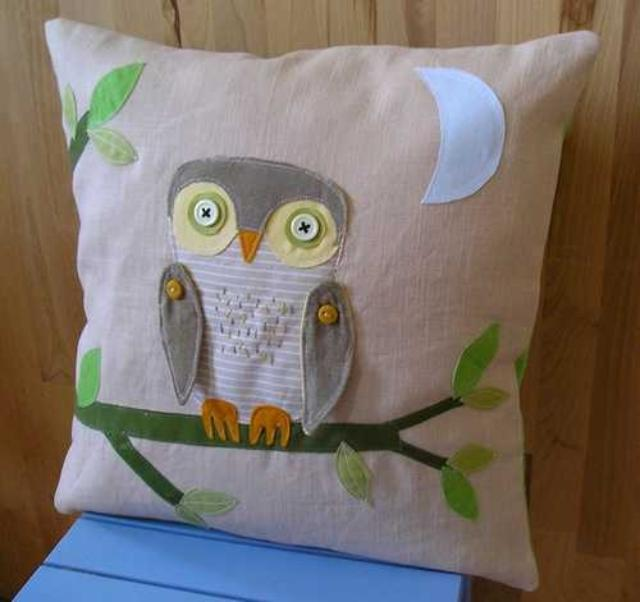pillow: (42, 17, 600, 591)
